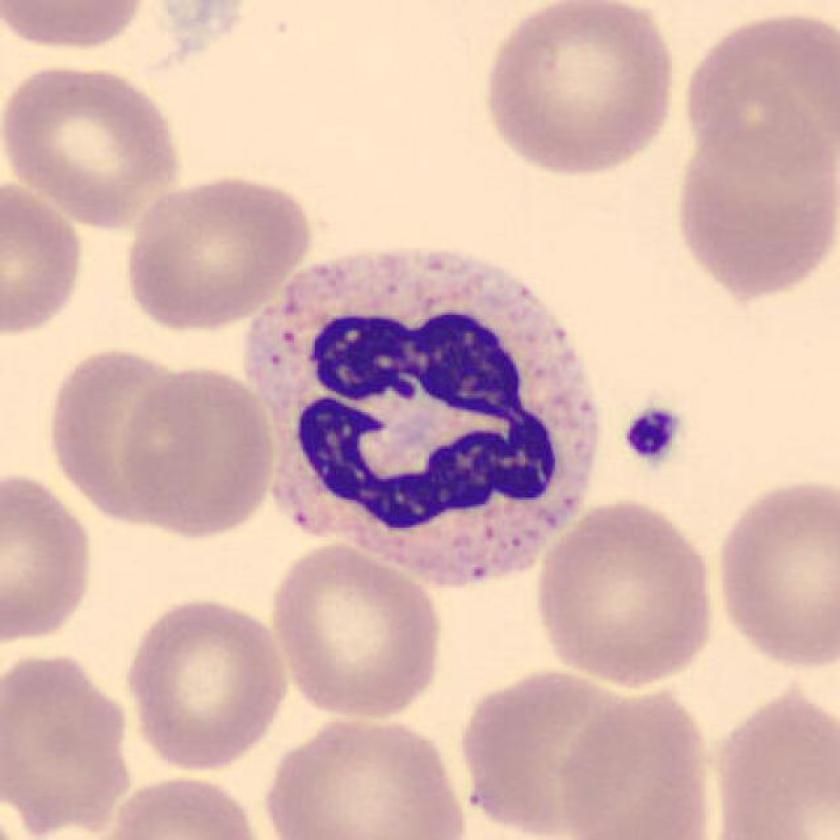neutrophil: (247, 253, 599, 585)
